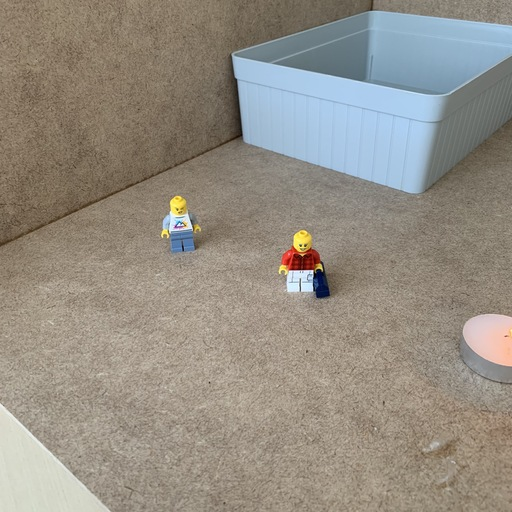human: (266, 225, 334, 303), (161, 194, 204, 259)
